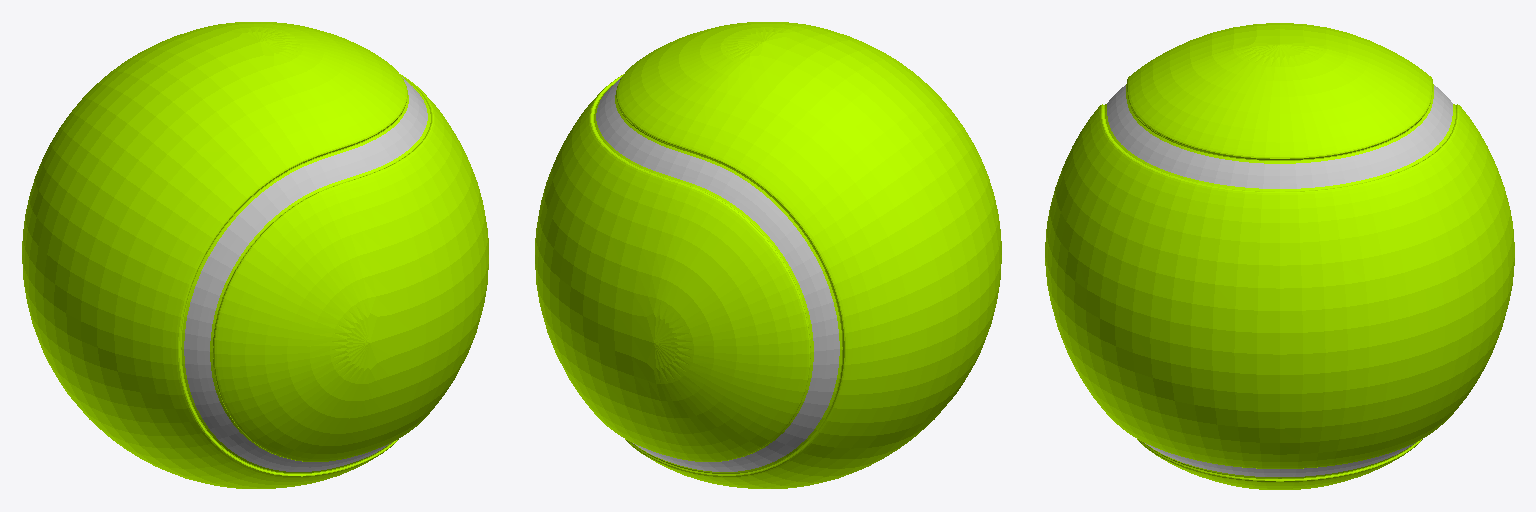
File: Tennis_Ball_4._new.obj
3 renders of one model, left to right at view 1: azimuth 30°, elevation 25°; view 2: azimuth 150°, elevation 25°; view 3: azimuth 270°, elevation 25°, orthographic.
Visible parts, largest first — view 1: Sphere; view 2: Sphere; view 3: Sphere.
Boxes of the visible parts, x1,y1,x2,y2 form: Sphere: [22, 22, 488, 488]; Sphere: [535, 22, 1001, 488]; Sphere: [1045, 23, 1514, 489].
Bounding box in the file's own units: 0.0777 × 0.0784 × 0.0784.